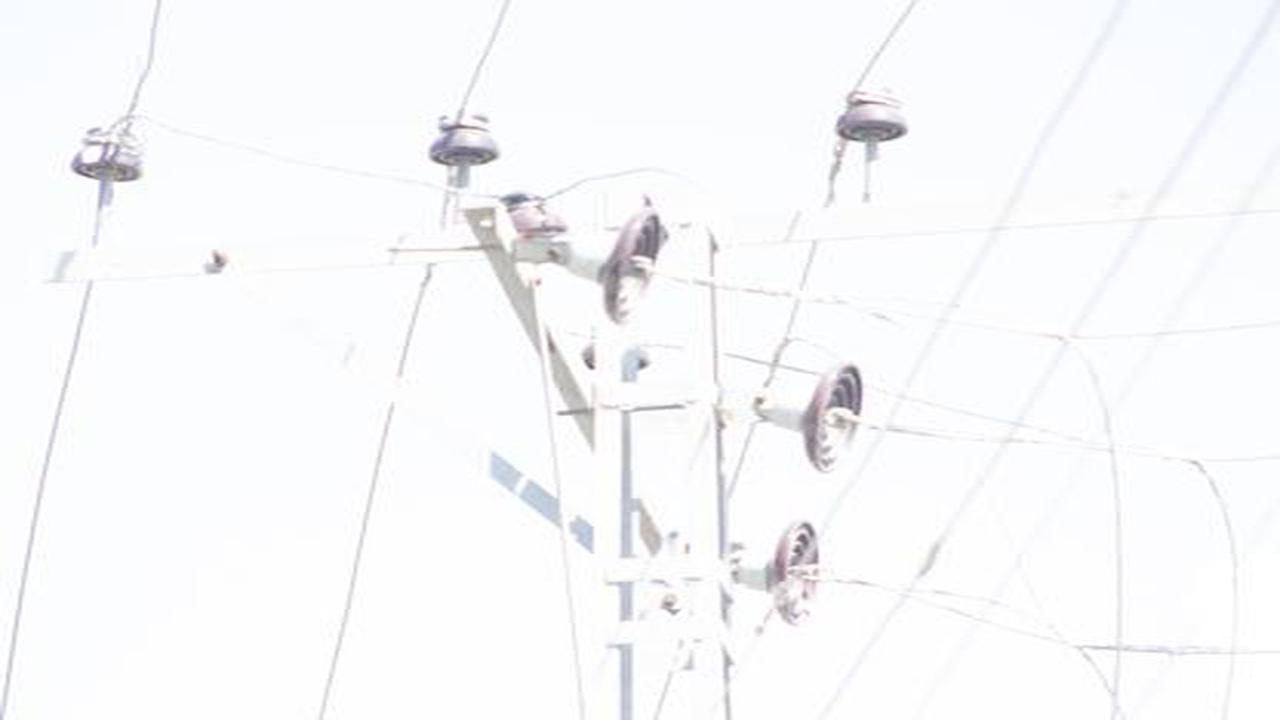insulator_disc: (792, 359, 866, 477), (754, 516, 823, 627), (599, 204, 665, 319)
insulator_pin: (69, 116, 145, 186), (832, 83, 915, 147), (425, 110, 507, 172), (500, 187, 570, 246)
